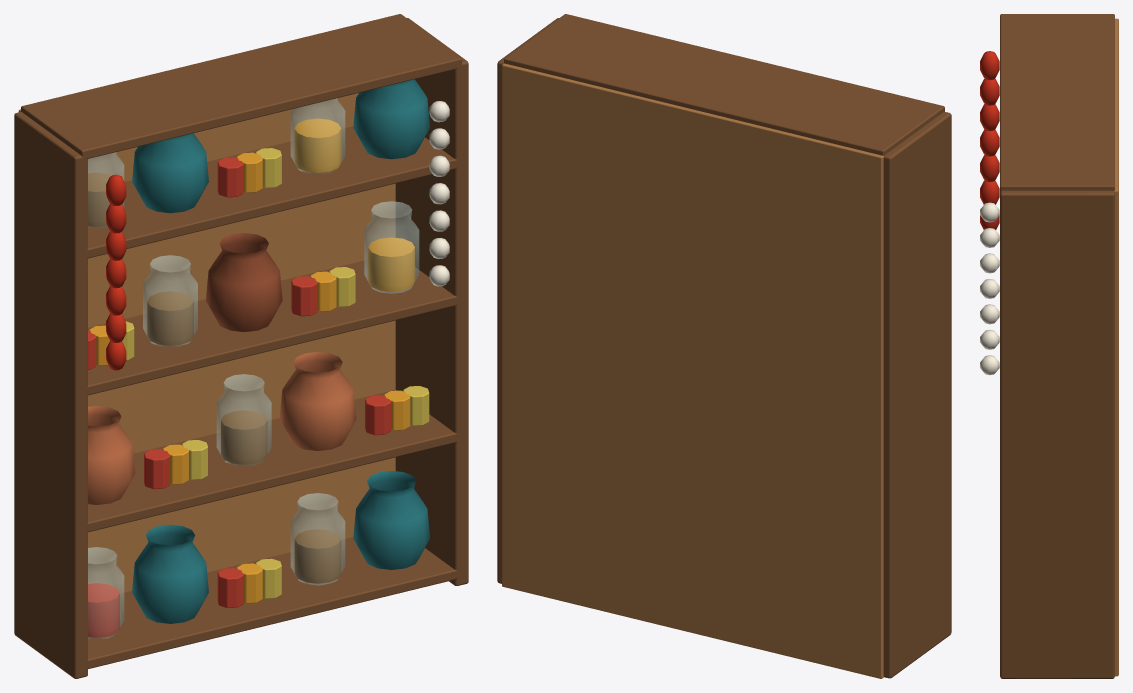
Rendered from mk_spice_shelf.glb.
3 renders of one model, left to right at view 1: azimuth 30°, elevation 25°; view 2: azimuth 150°, elevation 25°; view 3: azimuth 270°, elevation 25°, orthographic. The views are drawn at different scales.
Parts seen in each view (by area): view 1: mk_spice_shelf_body; view 2: mk_spice_shelf_body; view 3: mk_spice_shelf_body.
Boxes of the visible parts, box(x1,y1,x2,y2) form: mk_spice_shelf_body: box(14, 14, 468, 678); mk_spice_shelf_body: box(497, 14, 951, 678); mk_spice_shelf_body: box(980, 14, 1118, 678).
Size of the model in its own units: 1.66 by 2.12 by 0.543.
